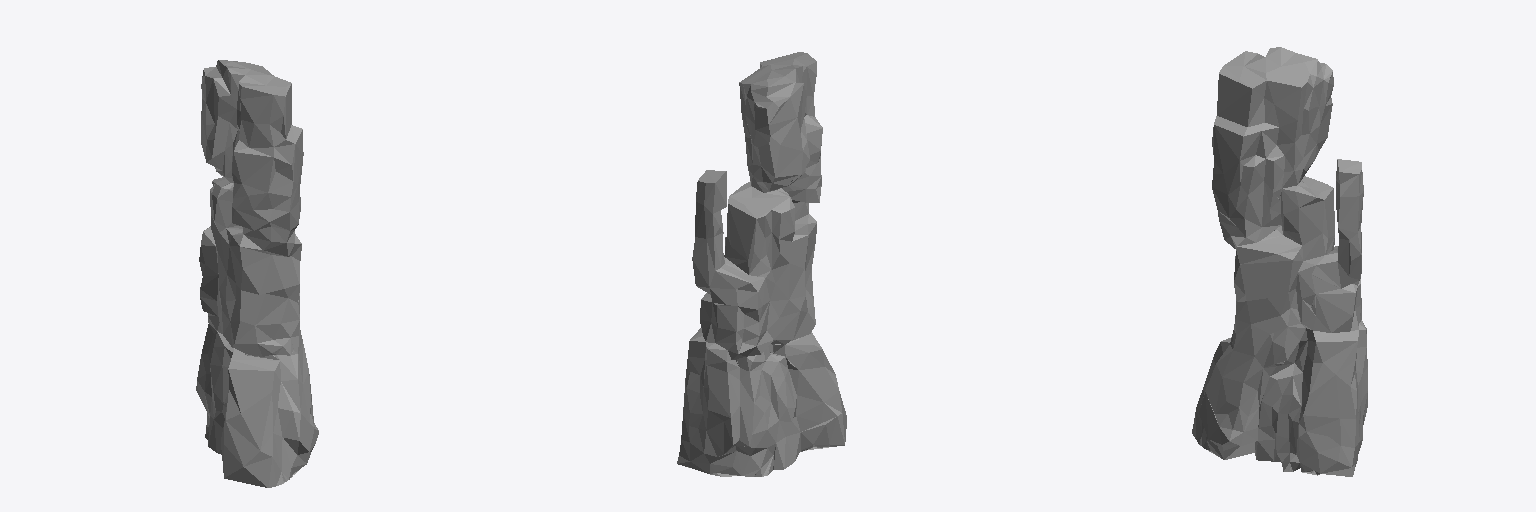
The model's file is Cliff.obj.
The picture shows the model from 3 angles: view 1: azimuth 30°, elevation 25°; view 2: azimuth 150°, elevation 25°; view 3: azimuth 270°, elevation 25°; orthographic projection.
Visible parts, largest first — view 1: Group56654; view 2: Group56654; view 3: Group56654.
Boxes of the visible parts, <box> form: Group56654: <box>196,60,318,487</box>; Group56654: <box>677,52,846,476</box>; Group56654: <box>1192,47,1367,476</box>.
Size of the model in its own units: 3.38 by 11.51 by 4.72.